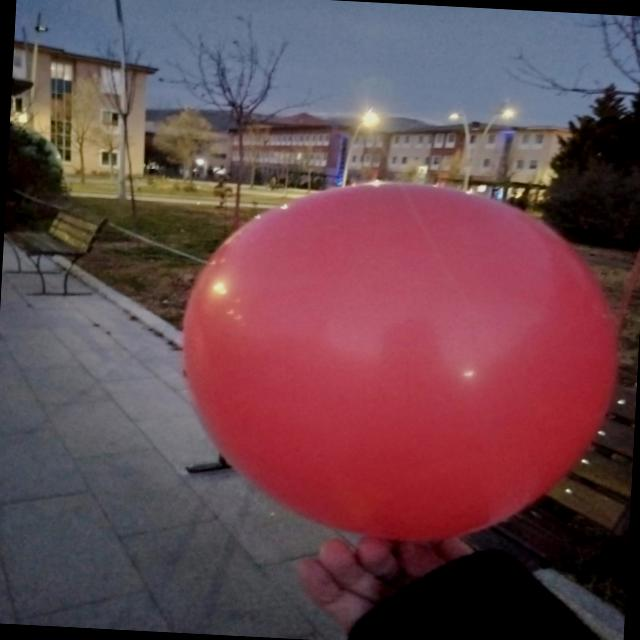balloon: (184, 184, 618, 542)
